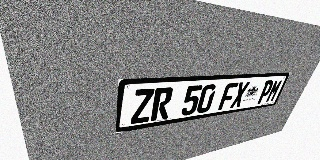0: (195, 84, 217, 114)
5: (180, 85, 203, 116)
F: (218, 82, 239, 110)
M: (265, 79, 283, 103)
P: (256, 80, 275, 104)
R: (150, 87, 174, 121)
X: (229, 82, 250, 108)
Z: (130, 88, 155, 124)
